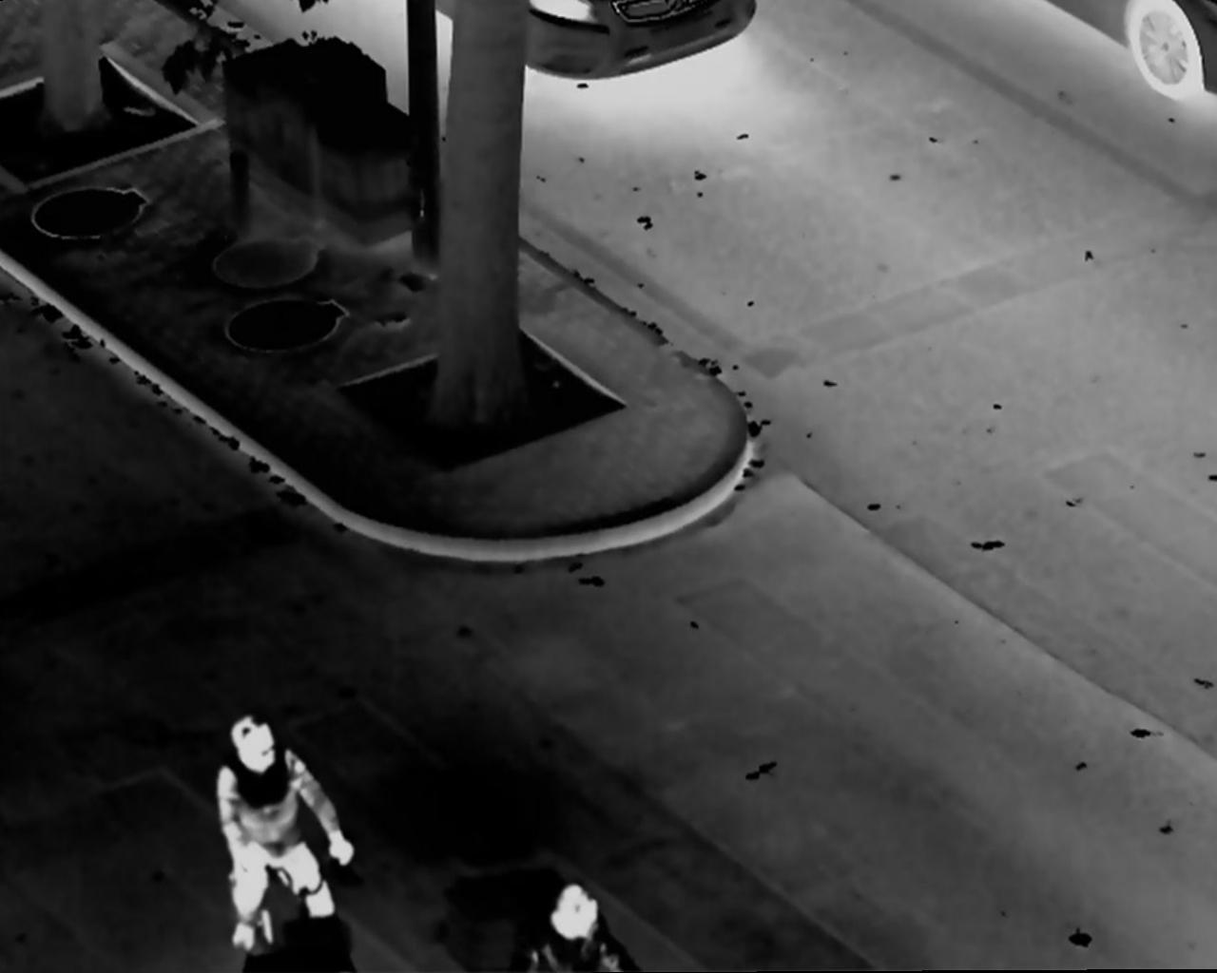person: (200, 703, 361, 969), (519, 882, 621, 973)
